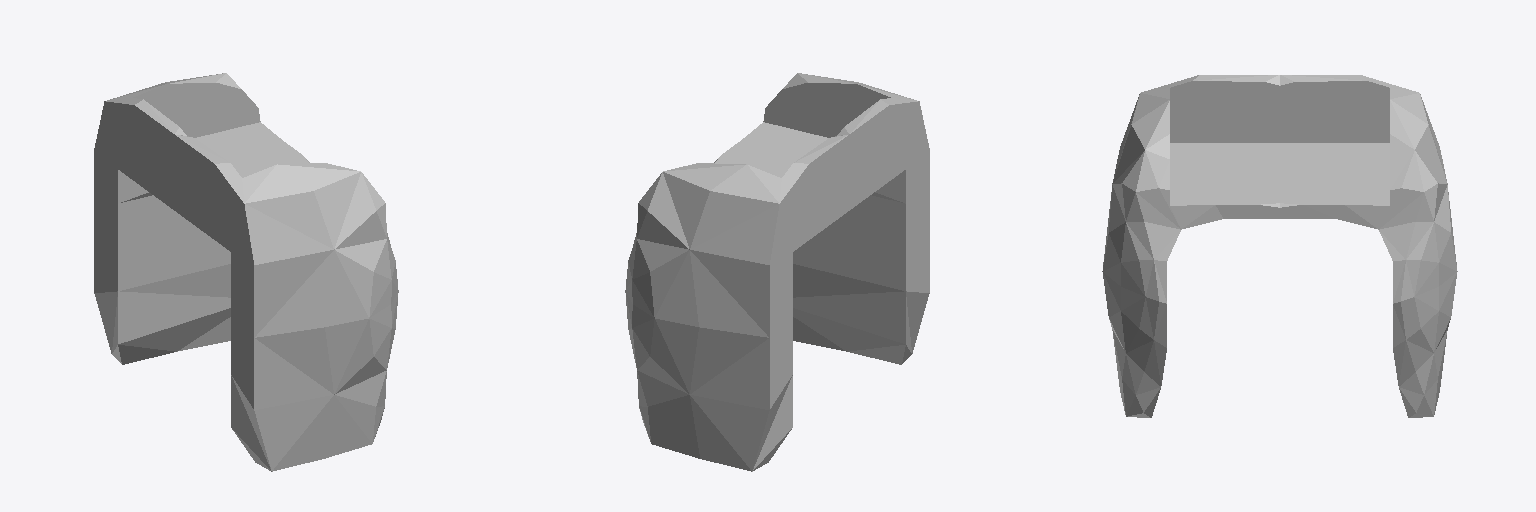
3 views of the same model, side by side, from view 1: azimuth 30°, elevation 25°; view 2: azimuth 150°, elevation 25°; view 3: azimuth 270°, elevation 25° (orthographic).
Visible parts, largest first — view 1: Cube5_cut2; view 2: Cube5_cut2; view 3: Cube5_cut2.
Part boxes in pixels (left/top/right/bottom): Cube5_cut2: left=94, top=73, right=398, bottom=471; Cube5_cut2: left=625, top=73, right=929, bottom=471; Cube5_cut2: left=1102, top=75, right=1457, bottom=417.
Size of the model in its own units: 235 by 390 by 444.